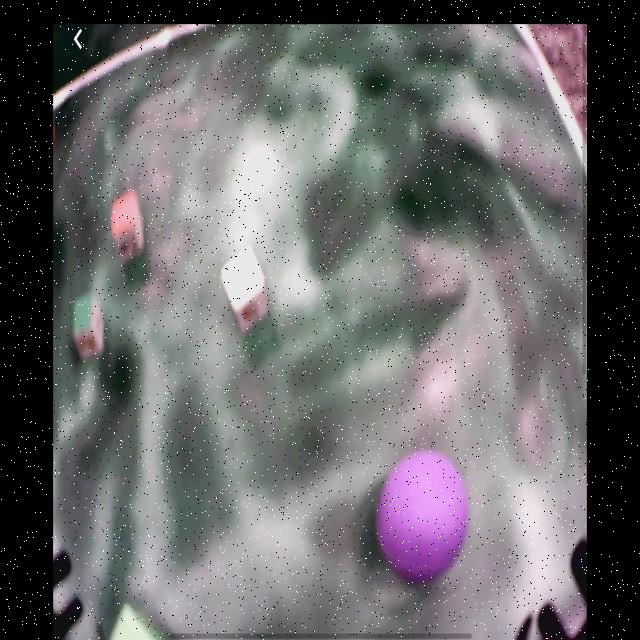ball: (377, 452, 468, 583)
